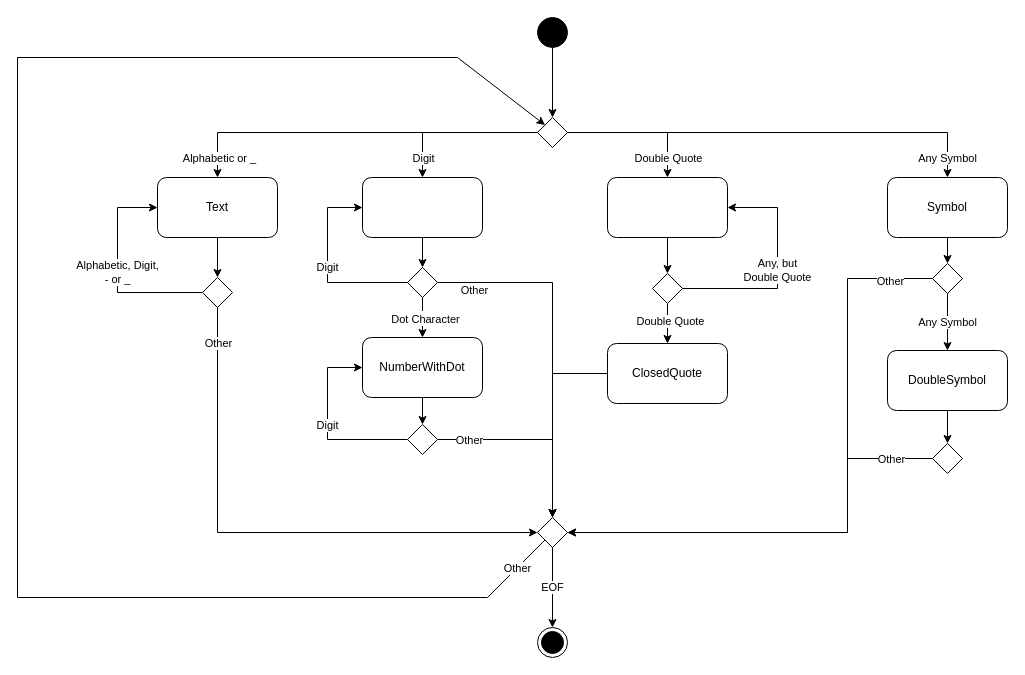
This 1025x675 diagram has some shape labels left out. The centre of each missing label's shape, as x and y in pixels:
"Number" goes at [422,207].
"Quote" goes at [667,207].
